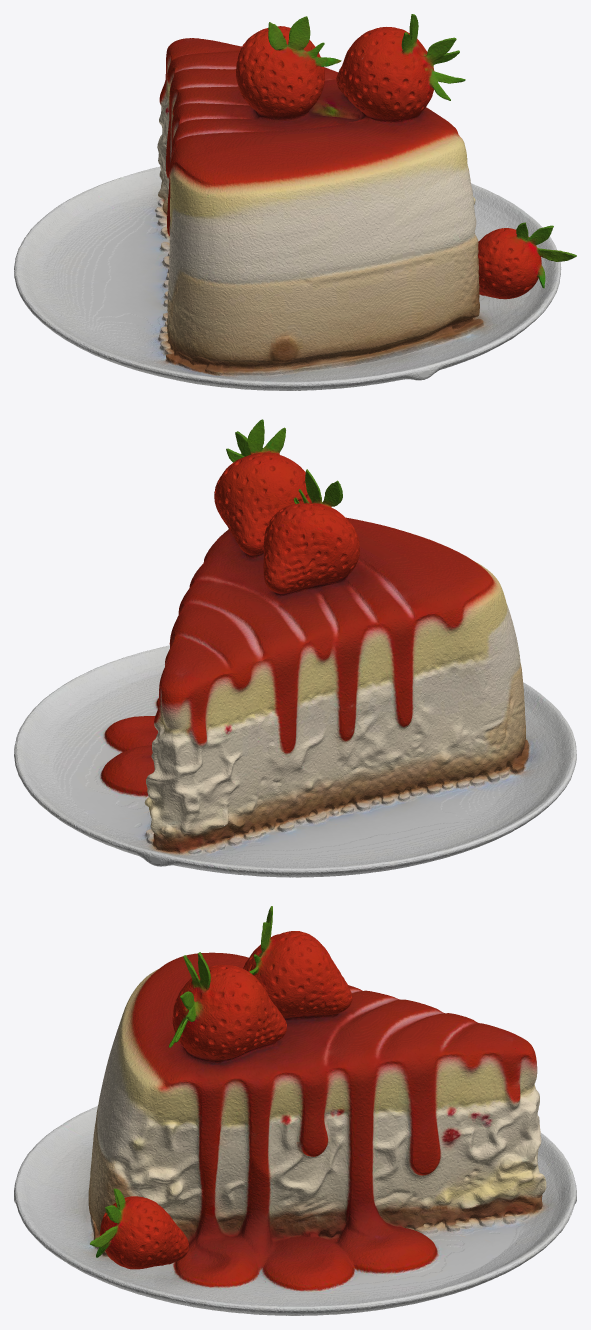
The model's file is strawberryCheesecake.glb.
3 renders of one model, top to bottom at view 1: azimuth 30°, elevation 25°; view 2: azimuth 150°, elevation 25°; view 3: azimuth 270°, elevation 25°, orthographic. The views are drawn at different scales.
Visible parts, largest first — view 1: tripo_node_eb83adda-4aa6-42f4-bd88-b18fb3d83043; view 2: tripo_node_eb83adda-4aa6-42f4-bd88-b18fb3d83043; view 3: tripo_node_eb83adda-4aa6-42f4-bd88-b18fb3d83043.
Boxes of the visible parts, left/top/right/bottom form: tripo_node_eb83adda-4aa6-42f4-bd88-b18fb3d83043: left=14, top=14, right=576, bottom=390; tripo_node_eb83adda-4aa6-42f4-bd88-b18fb3d83043: left=14, top=419, right=576, bottom=877; tripo_node_eb83adda-4aa6-42f4-bd88-b18fb3d83043: left=14, top=906, right=576, bottom=1315.
Bounding box in the file's own units: 0.999 × 0.5926 × 1.
1 material, 1 textured.
